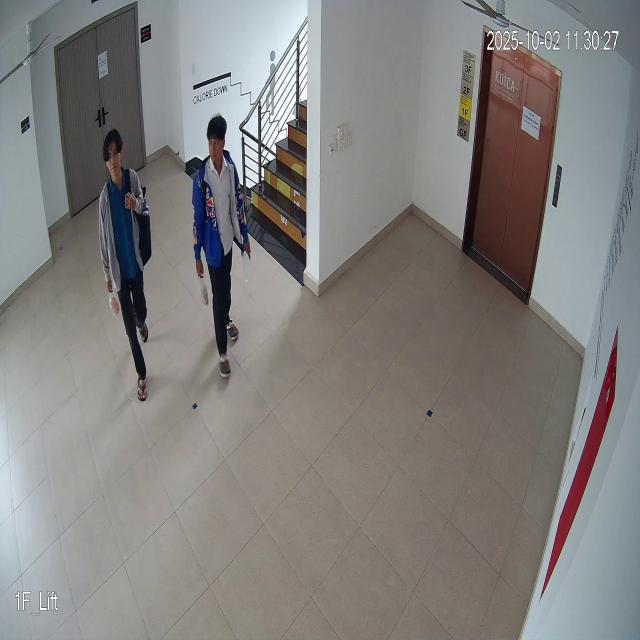face: (206, 110, 228, 174), (102, 125, 124, 183)
